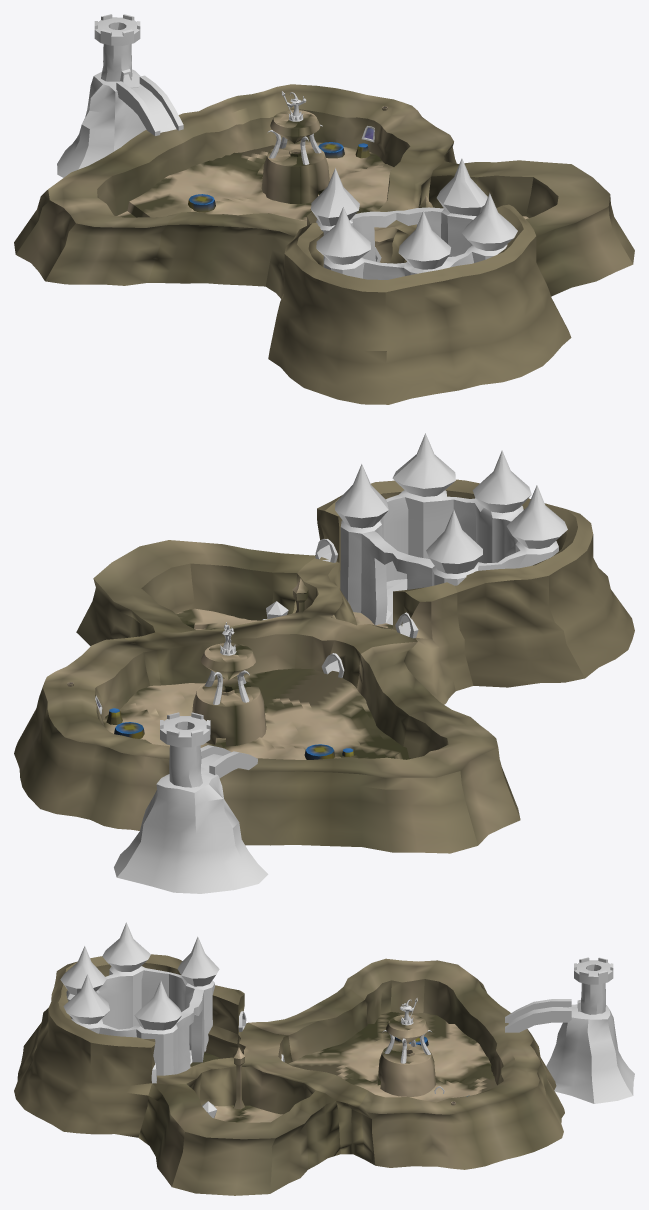
File: LvL1_placeholder.fbx
3 renders of one model, top to bottom at view 1: azimuth 30°, elevation 25°; view 2: azimuth 150°, elevation 25°; view 3: azimuth 270°, elevation 25°, orthographic. The views are drawn at different scales.
Parts seen in each view (by area): view 1: LVL_PlaceHolder; view 2: LVL_PlaceHolder; view 3: LVL_PlaceHolder.
Boxes of the visible parts, bbox=[...] form: LVL_PlaceHolder: bbox=[14, 14, 634, 404]; LVL_PlaceHolder: bbox=[14, 433, 634, 893]; LVL_PlaceHolder: bbox=[14, 922, 634, 1195].
Bounding box in the file's own units: 22032 × 7239 × 28895.
